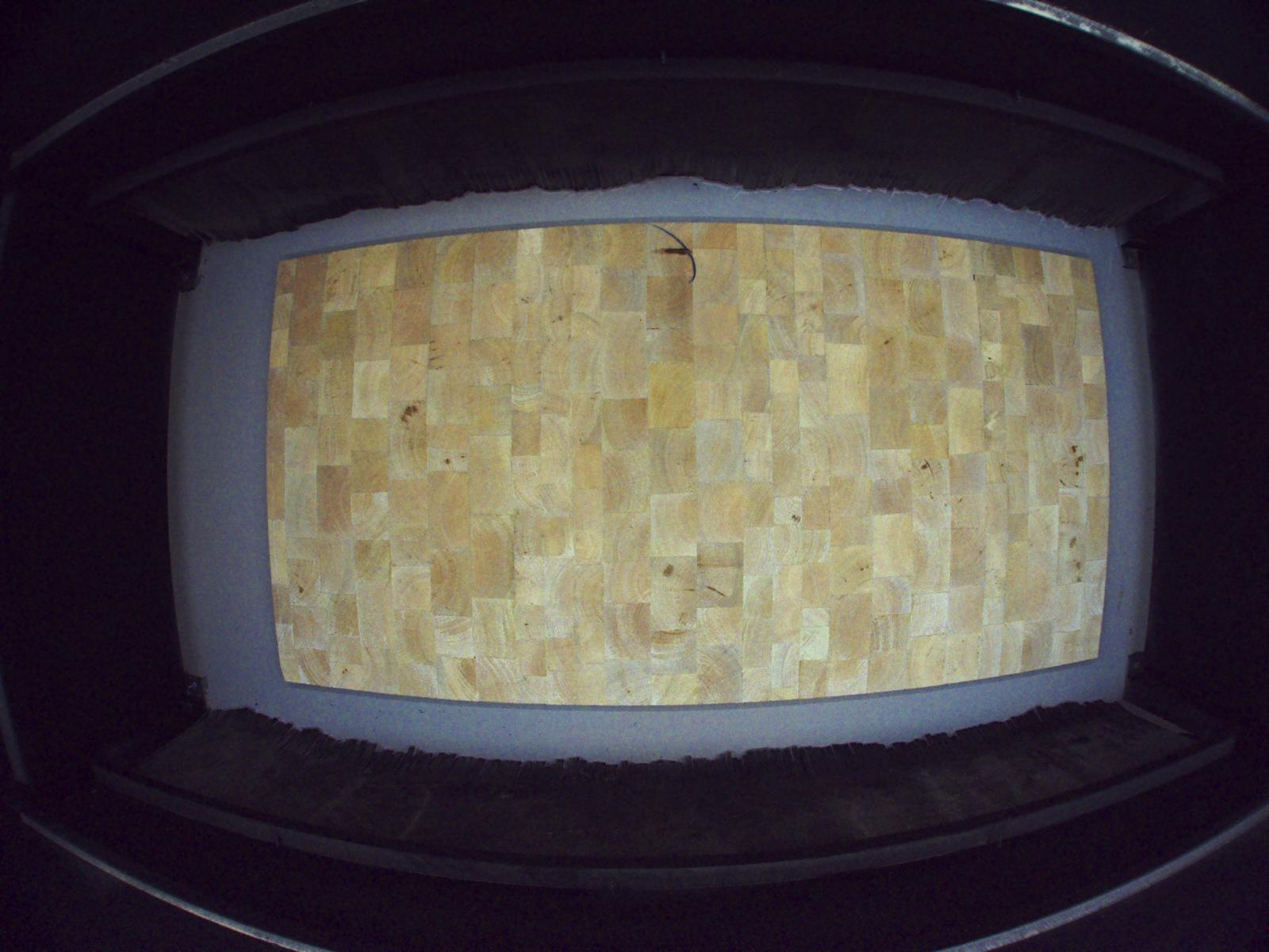nudillo: (649, 246, 696, 258)
sheck_ecuatoriano: (920, 459, 935, 480)
